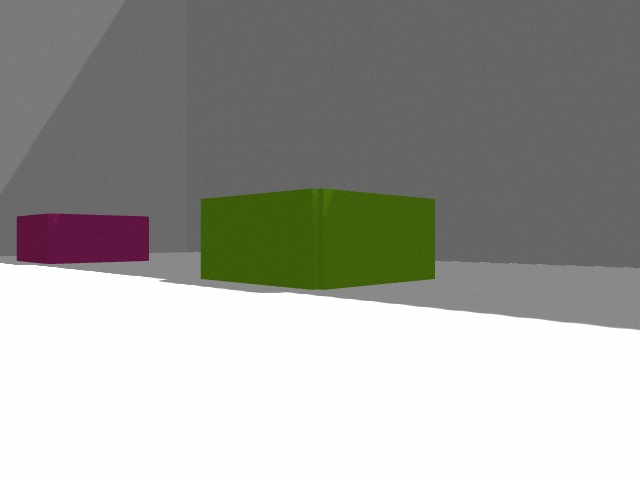green_drop_zone: (201, 188, 435, 290)
red_drop_zone: (17, 213, 149, 264)
